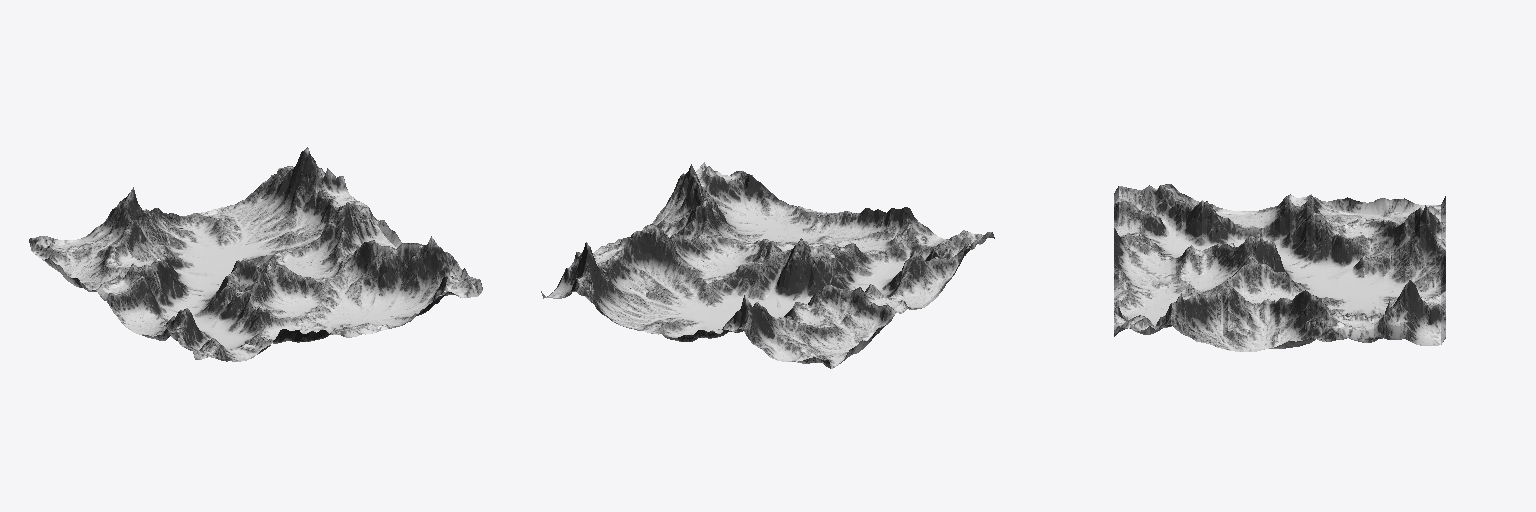
3 renders of one model, left to right at view 1: azimuth 30°, elevation 25°; view 2: azimuth 150°, elevation 25°; view 3: azimuth 270°, elevation 25°, orthographic.
Visible parts, largest first — view 1: Plane_Plane.001; view 2: Plane_Plane.001; view 3: Plane_Plane.001.
Boxes of the visible parts, x1=… form: Plane_Plane.001: x1=29, y1=147, x2=482, y2=361; Plane_Plane.001: x1=541, y1=162, x2=994, y2=368; Plane_Plane.001: x1=1114, y1=184, x2=1445, y2=351.
Bounding box in the file's own units: 2 × 0.4425 × 2.
1 materials, 1 textured.